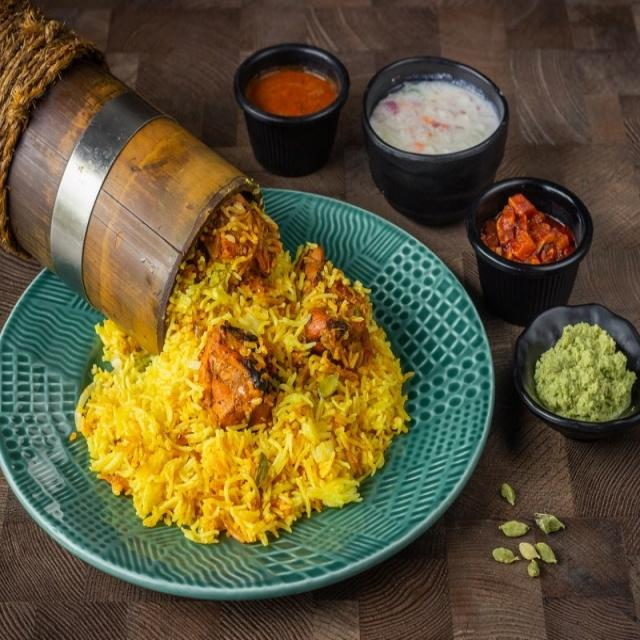Biryani: (64, 192, 414, 540)
